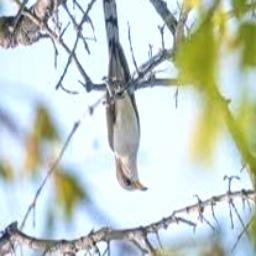Cuckoo: (103, 0, 148, 193)
